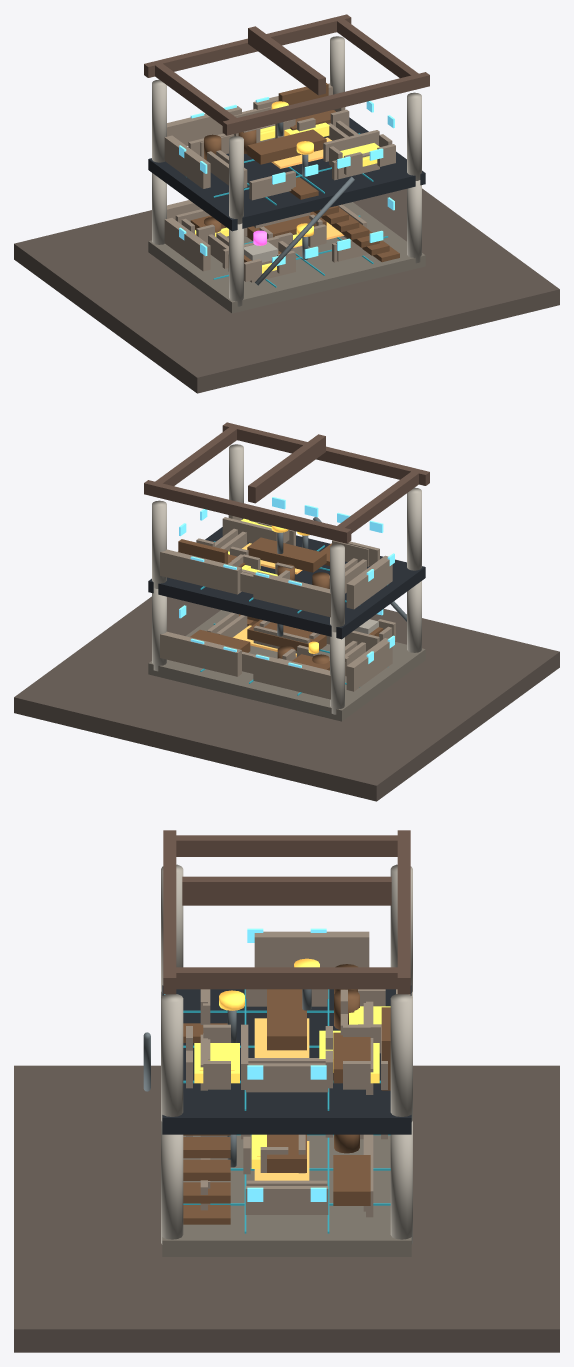
3 renders of one model, top to bottom at view 1: azimuth 30°, elevation 25°; view 2: azimuth 150°, elevation 25°; view 3: azimuth 270°, elevation 25°, orthographic. The views are drawn at different scales.
Visible parts, largest first — view 1: ProfileGround.016, BuildingFloor_1.008, BuildingFloor_2.008, RoofEaveSouth_visual_tavern, RoofEaveNorth_visual_tavern, RoofRidge_visual_tavern, CivicTable_visual_tavern_1, RoofEaveWest_visual_tavern, RoofEaveEast_visual_tavern, SideWall_2.008, SideWall_1.008, Column_2_1_-1.008 (+13 smaller); view 2: ProfileGround.016, BuildingFloor_2.008, BuildingFloor_1.008, RoofEaveNorth_visual_tavern, RoofEaveSouth_visual_tavern, BackWall_1_1.008, BackWall_2_1.008, BackWall_1_-1.008, BackWall_2_-1.008, RoofRidge_visual_tavern, CivicTable_visual_tavern_1, RoofEaveWest_visual_tavern (+14 smaller); view 3: ProfileGround.016, BuildingFloor_2.008, BuildingFloor_1.008, RoofRidge_visual_tavern, RoofEaveEast_visual_tavern, RoofEaveWest_visual_tavern, SideWall_2.008, Column_2_1_-1.008, Column_2_1_1.008, Column_1_1_-1.008, Column_1_1_1.008, CivicTable_visual_tavern_1 (+18 smaller).
Boxes of the visible parts, x1,y1,x2,y2 form: ProfileGround.016: (14,188,559,393); BuildingFloor_1.008: (148,202,425,313); BuildingFloor_2.008: (148,117,425,231); RoofEaveSouth_visual_tavern: (222,72,429,135); RoofEaveNorth_visual_tavern: (144,14,351,77); RoofRidge_visual_tavern: (248,26,325,95); CivicTable_visual_tavern_1: (247,129,326,164); RoofEaveWest_visual_tavern: (155,63,236,125); RoofEaveEast_visual_tavern: (337,19,418,78); SideWall_2.008: (164,135,210,188); SideWall_1.008: (164,218,210,271); Column_2_1_-1.008: (407,92,421,180); ProfileGround.016: (14,596,559,801); BuildingFloor_2.008: (148,527,425,639); BuildingFloor_1.008: (148,610,425,721); RoofEaveNorth_visual_tavern: (144,480,351,543); RoofEaveSouth_visual_tavern: (222,422,429,485); BackWall_1_1.008: (160,631,241,676); BackWall_2_1.008: (160,549,241,594); BackWall_1_-1.008: (253,654,330,699); BackWall_2_-1.008: (253,571,330,617); RoofRidge_visual_tavern: (248,434,325,503); CivicTable_visual_tavern_1: (247,537,326,572); RoofEaveWest_visual_tavern: (337,471,418,533); ProfileGround.016: (14,1065,559,1352); BuildingFloor_2.008: (162,985,411,1134); BuildingFloor_1.008: (162,1135,411,1256); RoofRidge_visual_tavern: (182,876,391,905); RoofEaveEast_visual_tavern: (176,967,399,989); RoofEaveWest_visual_tavern: (174,835,399,856); SideWall_2.008: (254,931,369,967); Column_2_1_-1.008: (161,994,183,1121); Column_2_1_1.008: (390,994,412,1121); Column_1_1_-1.008: (161,1121,183,1244); Column_1_1_1.008: (390,1121,412,1244); CivicTable_visual_tavern_1: (267,989,306,1050).
Size of the model in its own units: 4.8 by 2.9 by 4.2.
